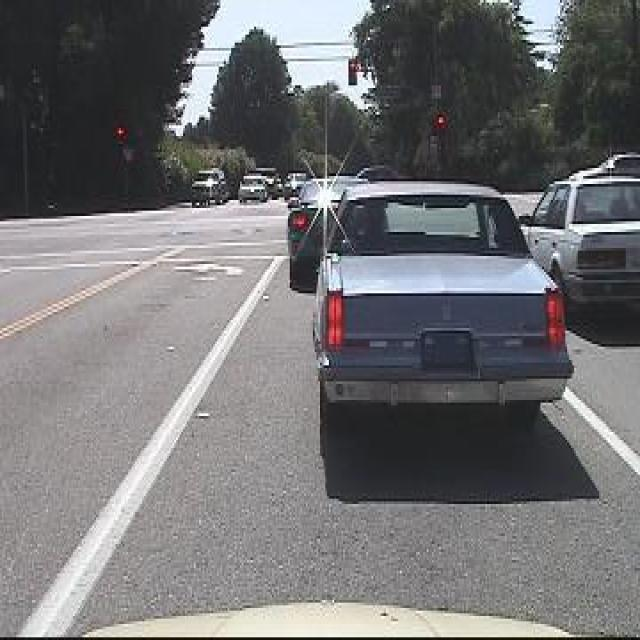car_back: (305, 168, 579, 477)
car_front: (187, 168, 224, 207), (234, 171, 268, 206)
